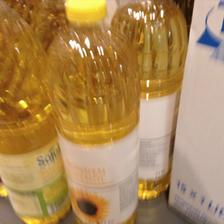Oel: (48, 0, 138, 224), (0, 0, 70, 222), (112, 1, 188, 197)
